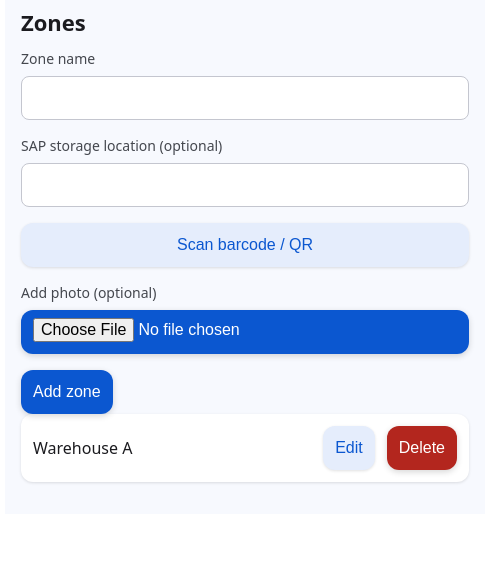
Test: ZonesPage › shows an error and keeps the zone when deleting one already used in a count
Expected: the text "Warehouse A" is shown, [33, 437, 132, 459]
Step 1. Click the button "Delete" → (422, 448), box [387, 426, 457, 470]
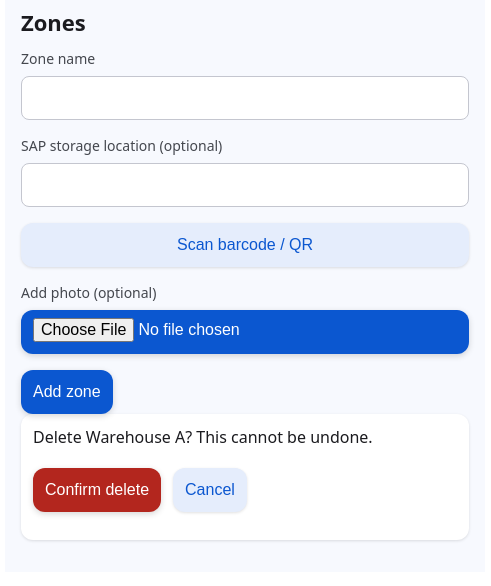
Step 2. Click the button "Confirm delete" → (97, 490), box [33, 468, 161, 512]
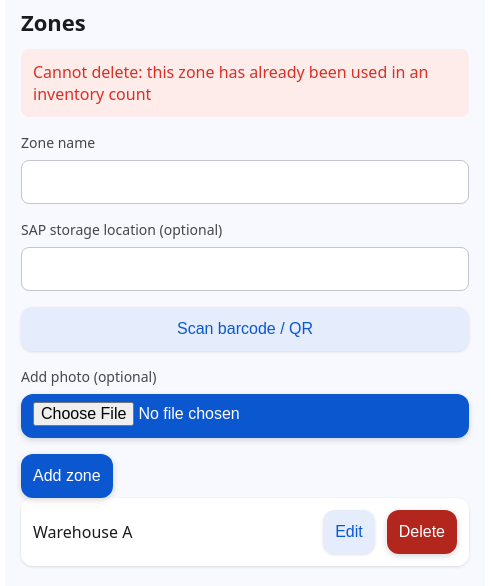
Expected: the text "Warehouse A" is shown, [33, 521, 132, 543]
Now the message reads "Cannot delete: this zone has already been used in an inventory count", box [33, 61, 428, 105]
